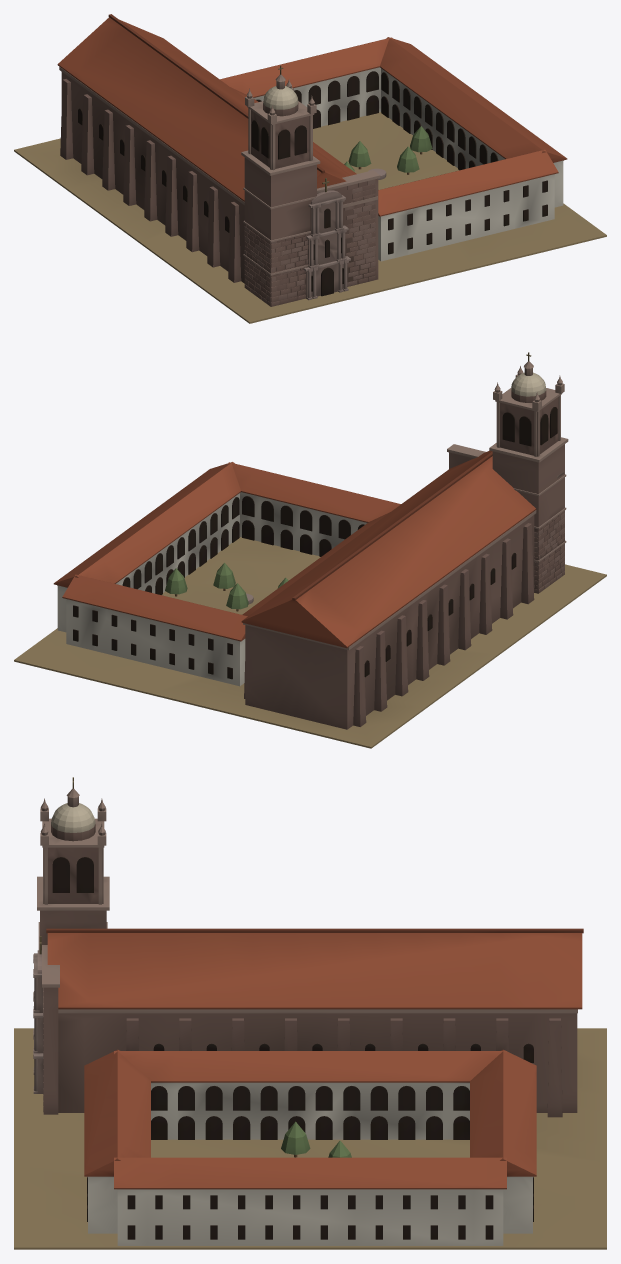
The model's file is san-francisco.glb.
3 renders of one model, top to bottom at view 1: azimuth 30°, elevation 25°; view 2: azimuth 150°, elevation 25°; view 3: azimuth 270°, elevation 25°, orthographic. The views are drawn at different scales.
Parts seen in each view (by area): view 1: p1_church, p0_ground, p2_roofs; view 2: p1_church, p0_ground, p2_roofs; view 3: p1_church, p2_roofs, p0_ground.
Boxes of the visible parts, box(x1,y1,x2,y2) form: p1_church: box(57, 14, 563, 306); p0_ground: box(14, 112, 606, 323); p2_roofs: box(220, 37, 567, 216); p1_church: box(57, 352, 568, 729); p0_ground: box(14, 537, 606, 748); p2_roofs: box(53, 462, 400, 641); p1_church: box(33, 777, 583, 1245); p2_roofs: box(84, 1049, 536, 1189); p0_ground: box(14, 1028, 606, 1249).
Size of the model in its own units: 70 by 42.61 by 80.
